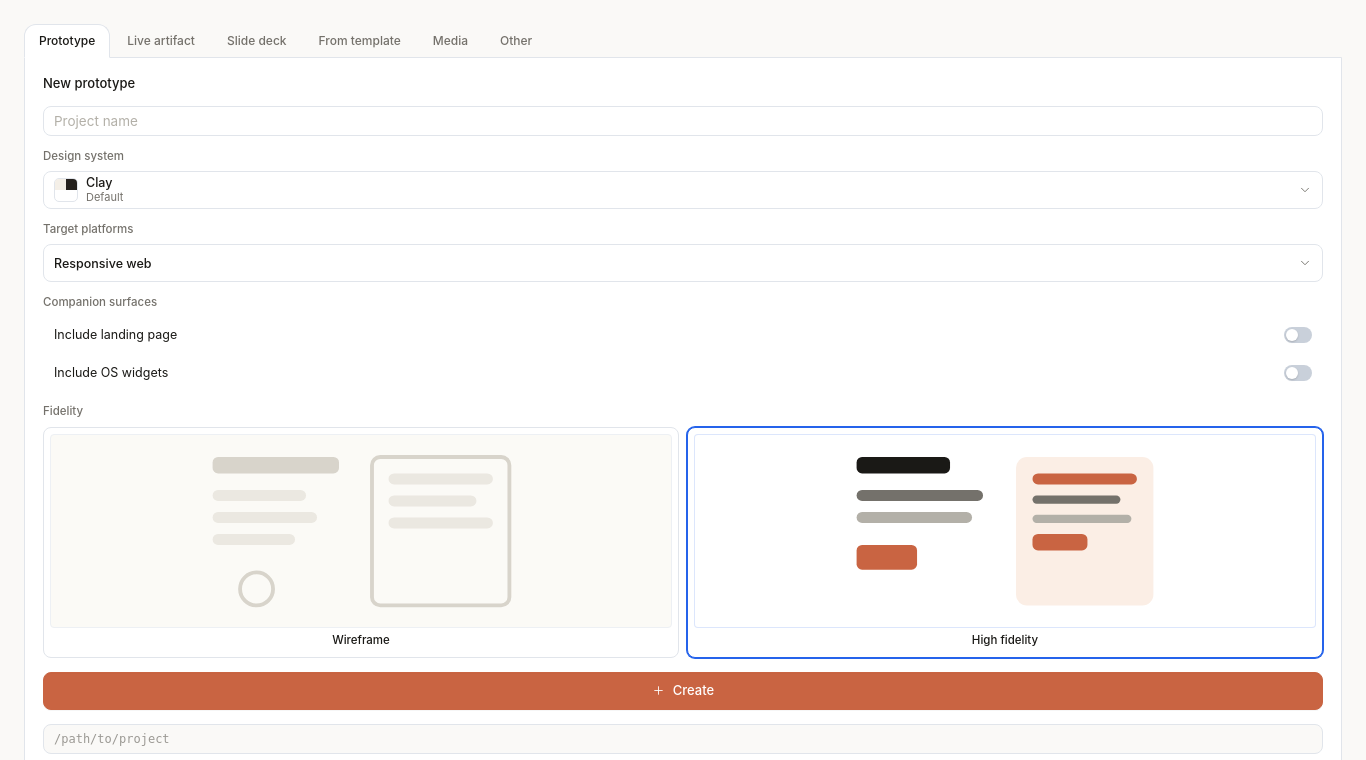
it: NewProjectPanel folder import feedback › shows an error when manual folder import rejects with a daemon message
The width and height of the screenshot is (1366, 760).
Type "/missing/project" into the field with placeholder "/path/to/project" at (683, 739), box left=43, top=724, right=1323, bottom=754
(page scrolled)
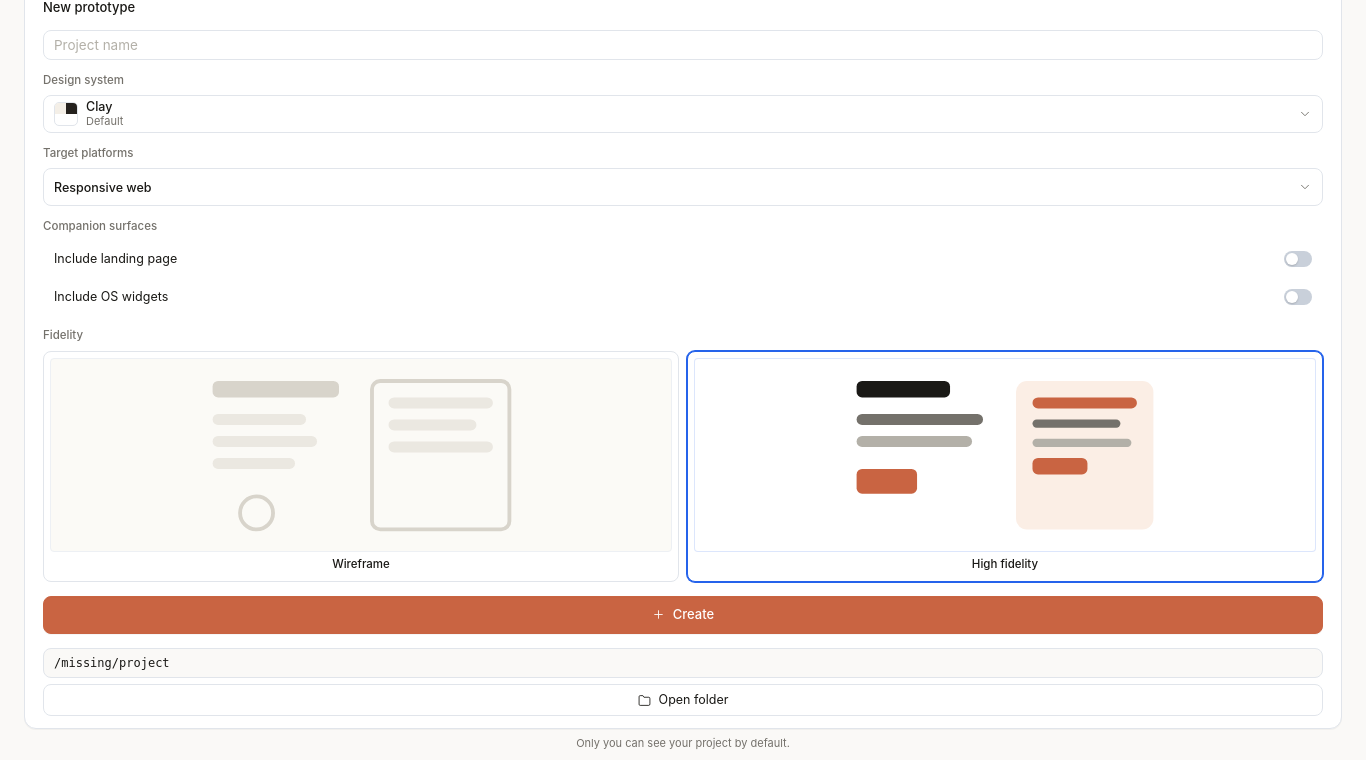
Click the button "Open folder" at (683, 700), box left=43, top=684, right=1323, bottom=716
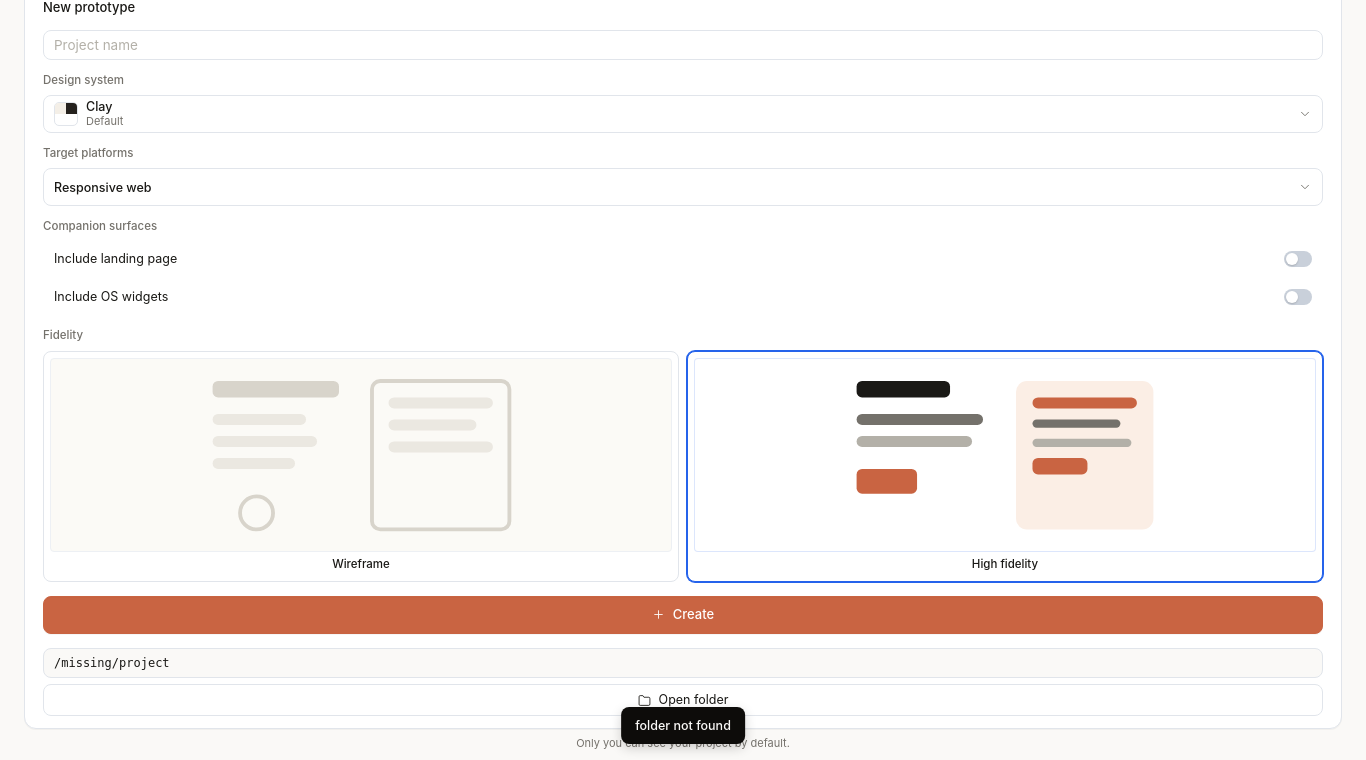
Result: the text "folder not found" is shown at left=635, top=716, right=731, bottom=734
